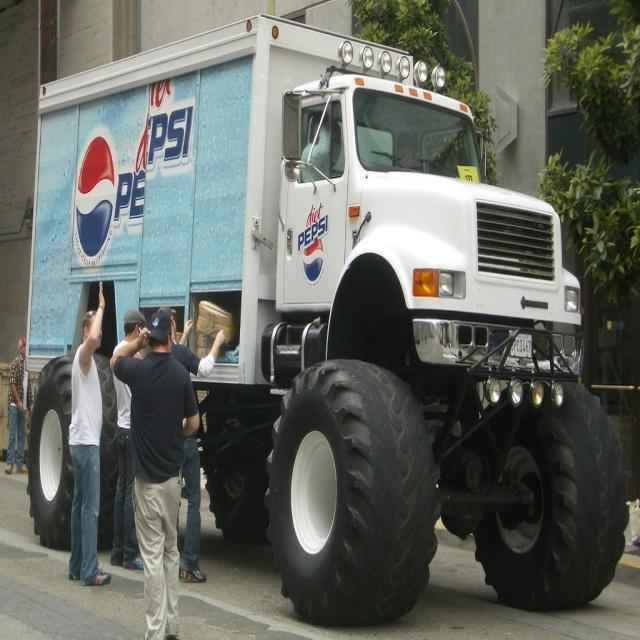pepsi: (74, 135, 119, 263), (302, 240, 326, 284)
